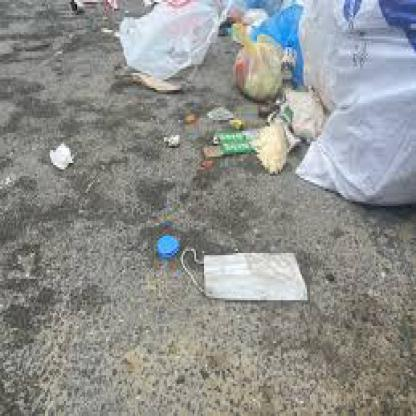Garbage: (302, 4, 414, 208), (108, 0, 242, 84), (182, 234, 320, 315), (149, 116, 302, 176), (228, 30, 288, 101), (279, 70, 323, 126), (214, 122, 262, 158), (260, 129, 291, 165), (141, 230, 174, 262), (38, 144, 78, 166), (196, 79, 199, 84)
